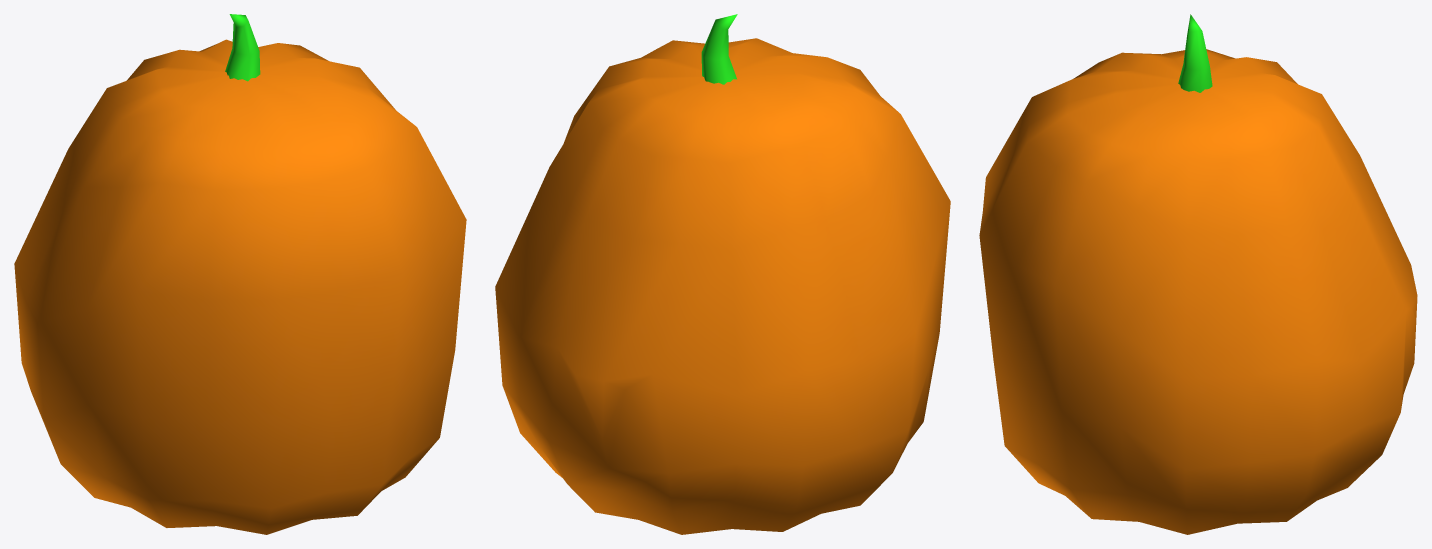
The model's file is Abobora_06_Base.fbx.
The picture shows the model from 3 angles, left to right: view 1: azimuth 30°, elevation 25°; view 2: azimuth 150°, elevation 25°; view 3: azimuth 270°, elevation 25°; orthographic projection. The views are drawn at different scales.
Parts seen in each view (by area): view 1: Abobora_06; view 2: Abobora_06; view 3: Abobora_06.
Part boxes in pixels (left/top/right/bottom): Abobora_06: left=14, top=14, right=466, bottom=534; Abobora_06: left=495, top=14, right=950, bottom=534; Abobora_06: left=979, top=14, right=1417, bottom=534.
Bounding box in the file's own units: 27.43 × 30.25 × 26.96.
